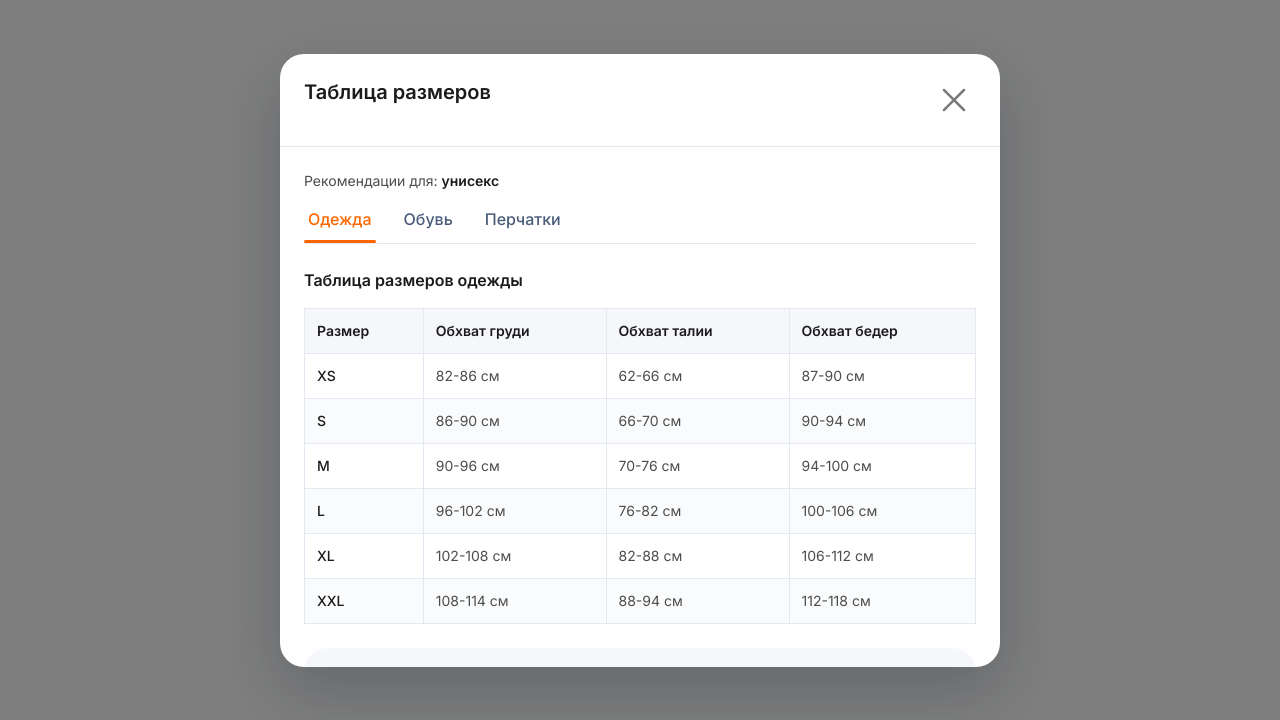
Test: SizeChartModal › Tabs › switches to gloves tab
The image size is (1280, 720).
Click the tab "Перчатки": [523, 224] box [481,206,565,242]
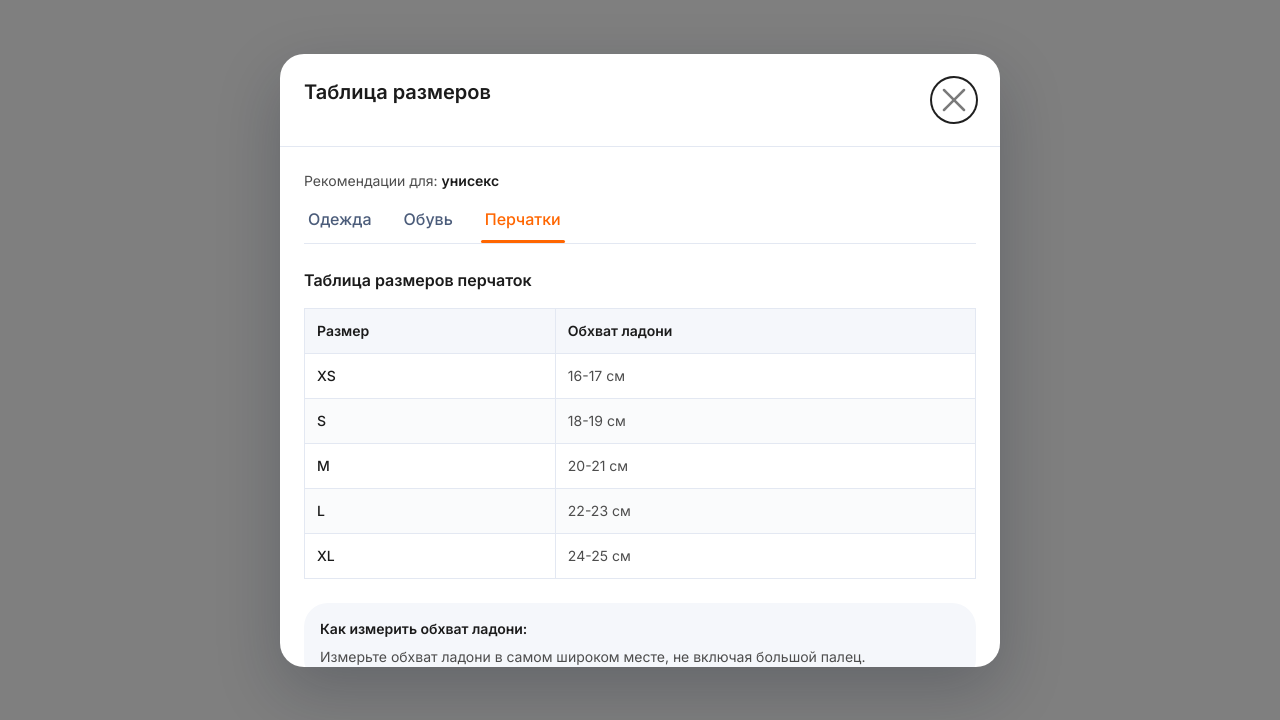
expect the heading "Таблица размеров перчаток" is shown: met, box [304,270,532,290]
